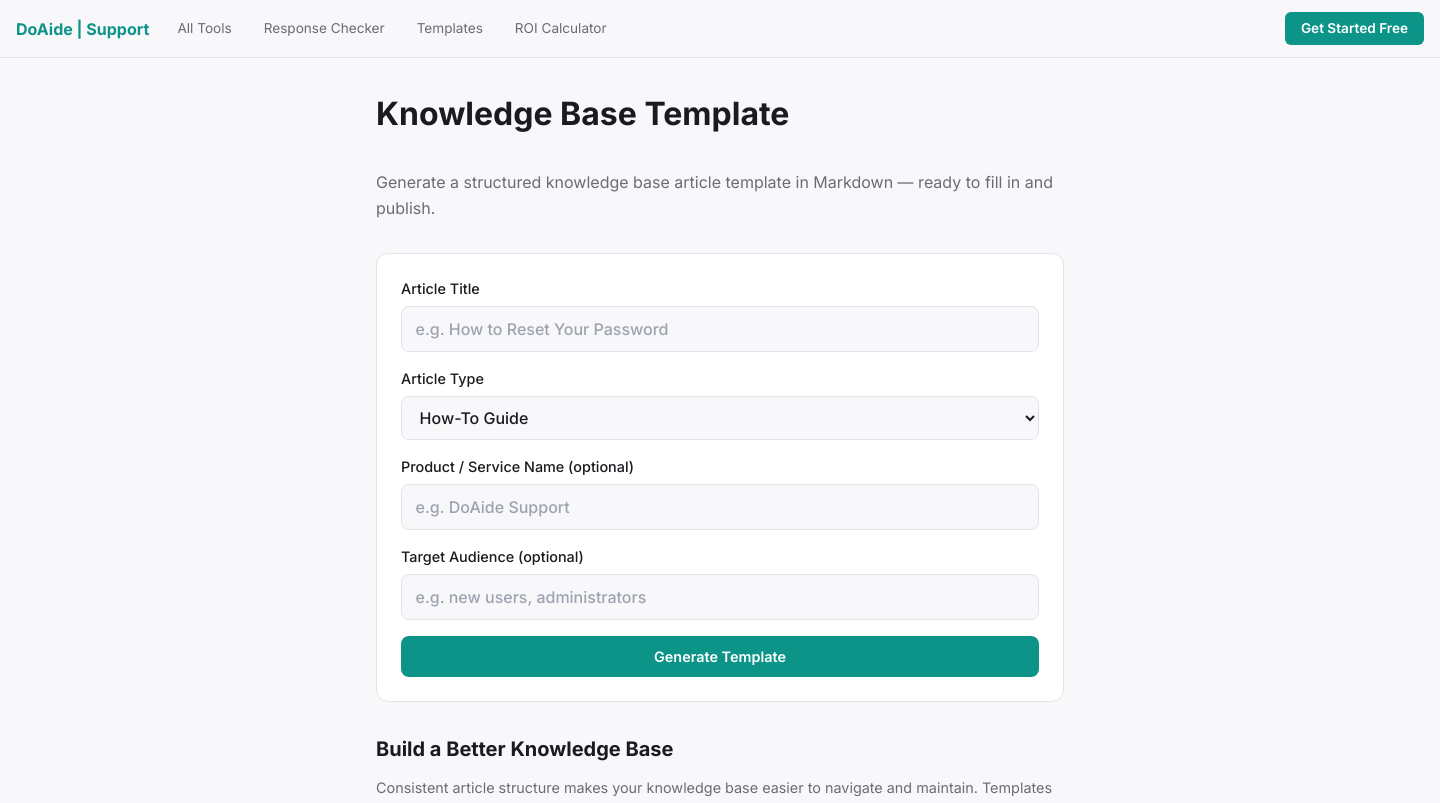
Scenario: KBTemplatePage › shows copy button after generation
Step 1. Click the button "Generate Template" → (720,657), box x1=401 y1=636 x2=1039 y2=677
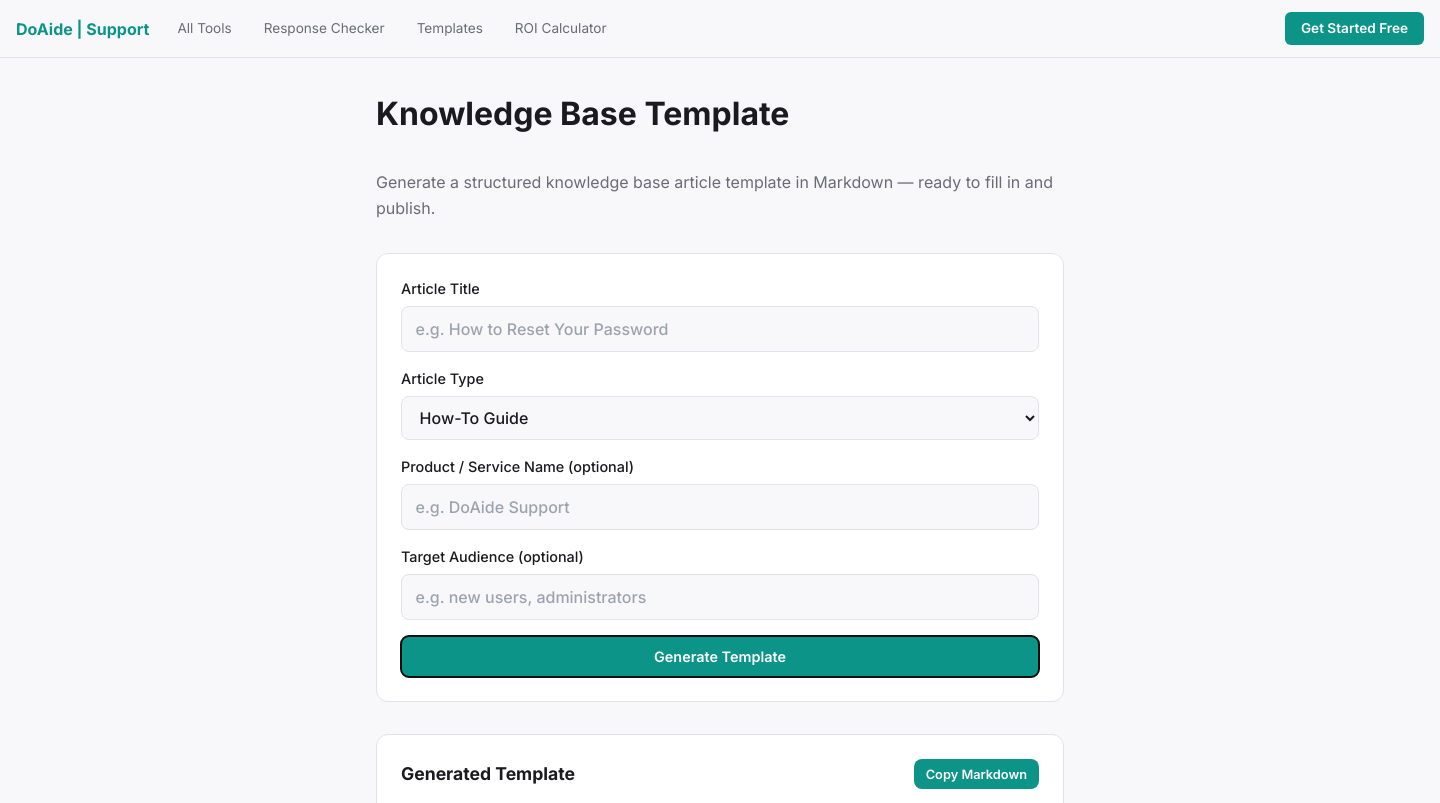
Check: the button "Copy Markdown" is shown, box x1=914 y1=759 x2=1039 y2=790
